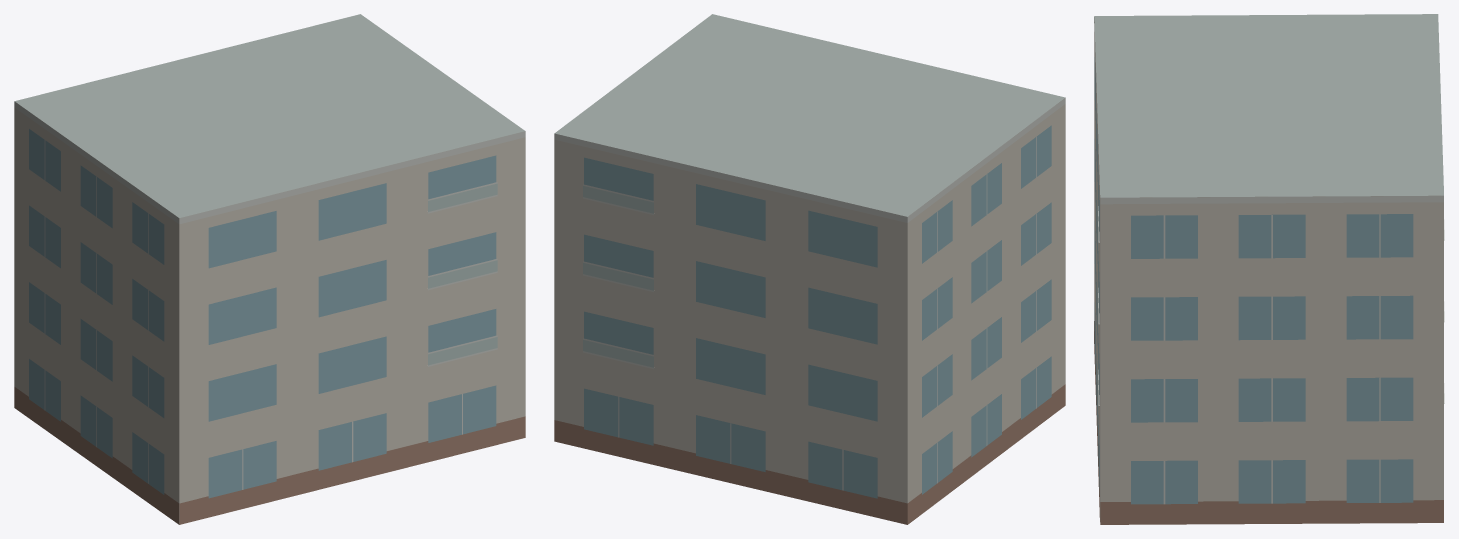
The model's file is residential-61c4f1b7-16c2-4783-9e99-487f9ed9d0fc.glb.
The picture shows the model from 3 angles, left to right: view 1: azimuth 30°, elevation 25°; view 2: azimuth 150°, elevation 25°; view 3: azimuth 270°, elevation 25°; orthographic projection. The views are drawn at different scales.
Visible parts, largest first — view 1: residential-61c4f1b7-16c2-4783-9e99-487f9ed9d0fc.tmp; view 2: residential-61c4f1b7-16c2-4783-9e99-487f9ed9d0fc.tmp; view 3: residential-61c4f1b7-16c2-4783-9e99-487f9ed9d0fc.tmp.
Boxes of the visible parts, <box> form: residential-61c4f1b7-16c2-4783-9e99-487f9ed9d0fc.tmp: <box>14,14,525,524</box>; residential-61c4f1b7-16c2-4783-9e99-487f9ed9d0fc.tmp: <box>554,14,1065,524</box>; residential-61c4f1b7-16c2-4783-9e99-487f9ed9d0fc.tmp: <box>1094,14,1444,524</box>.
Size of the model in its own units: 14.7 by 12.2 by 11.85.
